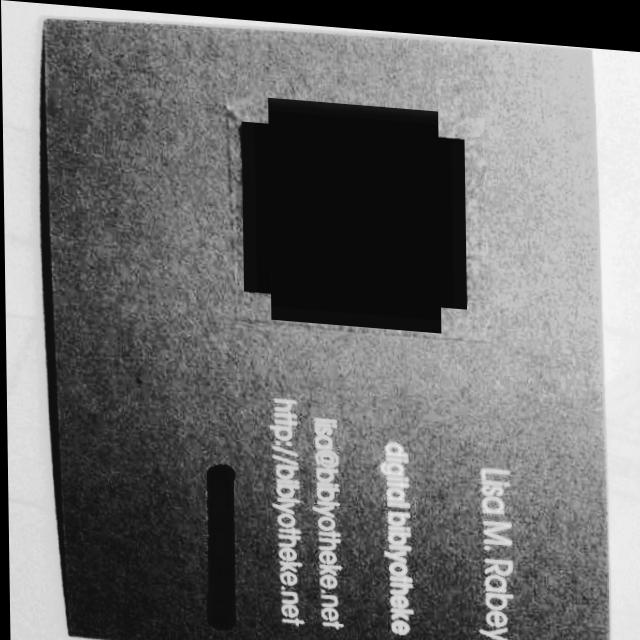qr_code: (253, 105, 452, 314)
